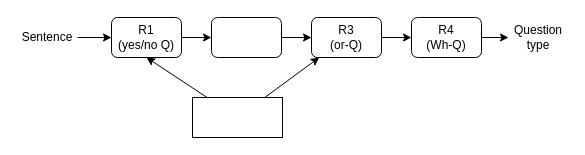
Image size: 585x155. Some labels were removed from this diagram. Each missing label, with the box of its shape:
BART-MNLI: (192, 96, 282, 138)
R2 (or-Clause): (210, 16, 282, 58)
